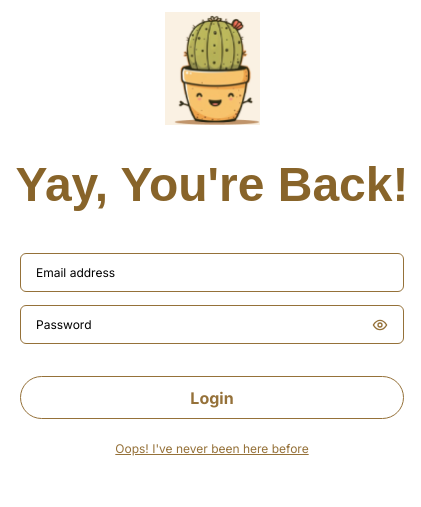
Test: LoginPage › shows API error message on failed login
This screenshot has width=421, height=507.
Type "user@example.com" into the field labelled "Email address" at x=212, y=273, box 36,264 -> 388,282
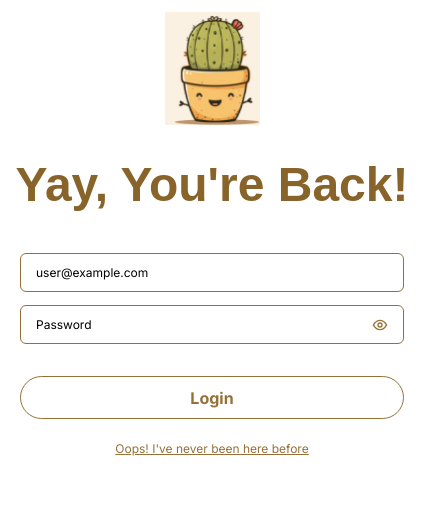
Type "wrongpassword1" into the password field labelled "Password" at x=200, y=325, box 36,316 -> 364,334
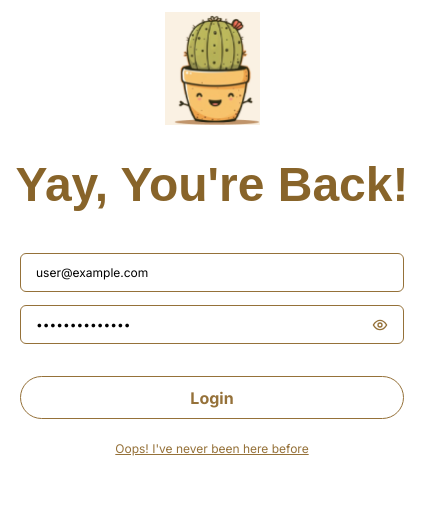
Click the button "Login" at x=212, y=398, box 20,376 -> 404,419
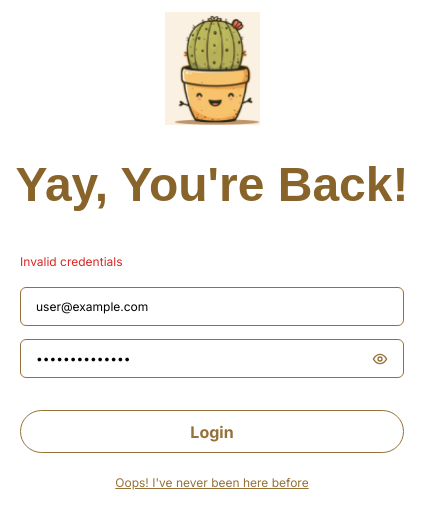
Now the text "Invalid credentials" is shown, box 20,254 -> 122,269
